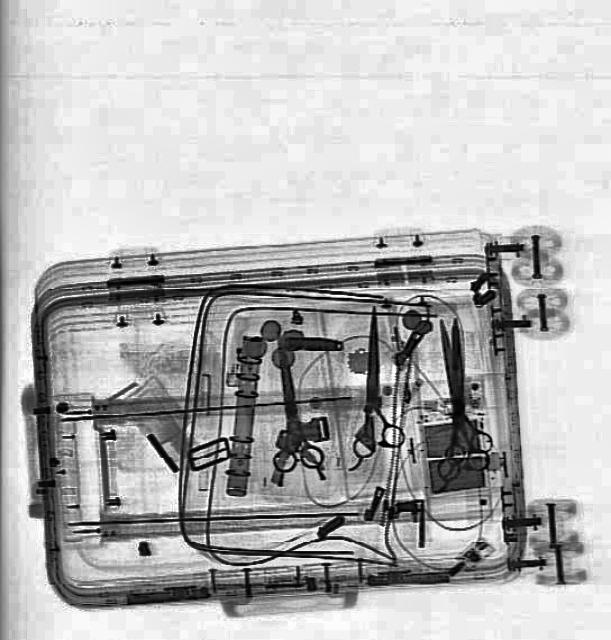Scissors: (416, 316, 490, 478), (430, 316, 496, 464), (252, 339, 324, 473), (351, 305, 403, 459)
